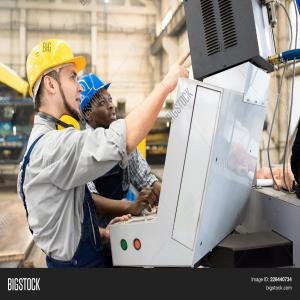blue: (76, 71, 119, 130)
yellow: (26, 38, 83, 125)
